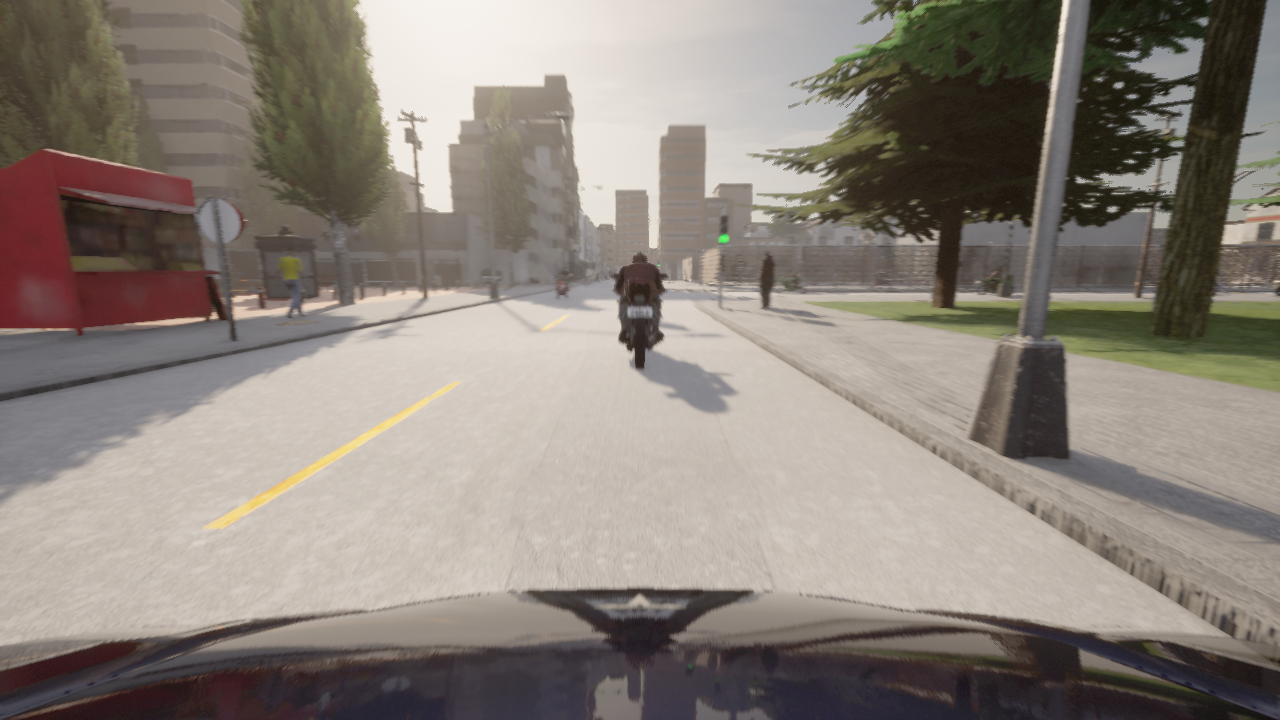cyclist: (0, 588, 1279, 719), (612, 274, 667, 368), (975, 274, 1014, 295), (553, 272, 571, 299), (841, 268, 864, 281), (1217, 277, 1230, 295), (736, 267, 755, 279), (800, 271, 819, 281), (777, 270, 792, 281), (865, 271, 879, 281), (1273, 278, 1279, 295), (775, 273, 787, 280), (877, 269, 889, 273), (1149, 278, 1154, 281)
pedestrian: (276, 246, 306, 318), (757, 250, 774, 309)
